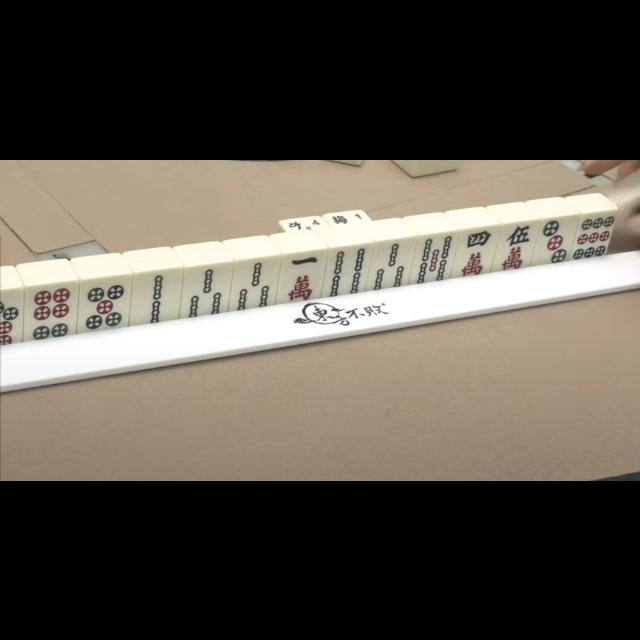b2: (132, 270, 180, 322)
b3: (182, 264, 230, 316), (232, 258, 278, 310), (370, 238, 412, 288)
b4: (325, 244, 369, 296)
b5: (414, 233, 454, 281)
c1: (279, 250, 323, 302)
c4: (455, 227, 495, 277)
c5: (496, 221, 536, 269)
d3: (536, 216, 572, 264)
d5: (80, 277, 128, 331)
d6: (23, 282, 76, 338)
d9: (574, 212, 616, 260)
f1: (330, 210, 370, 224)
f4: (284, 214, 324, 232)
